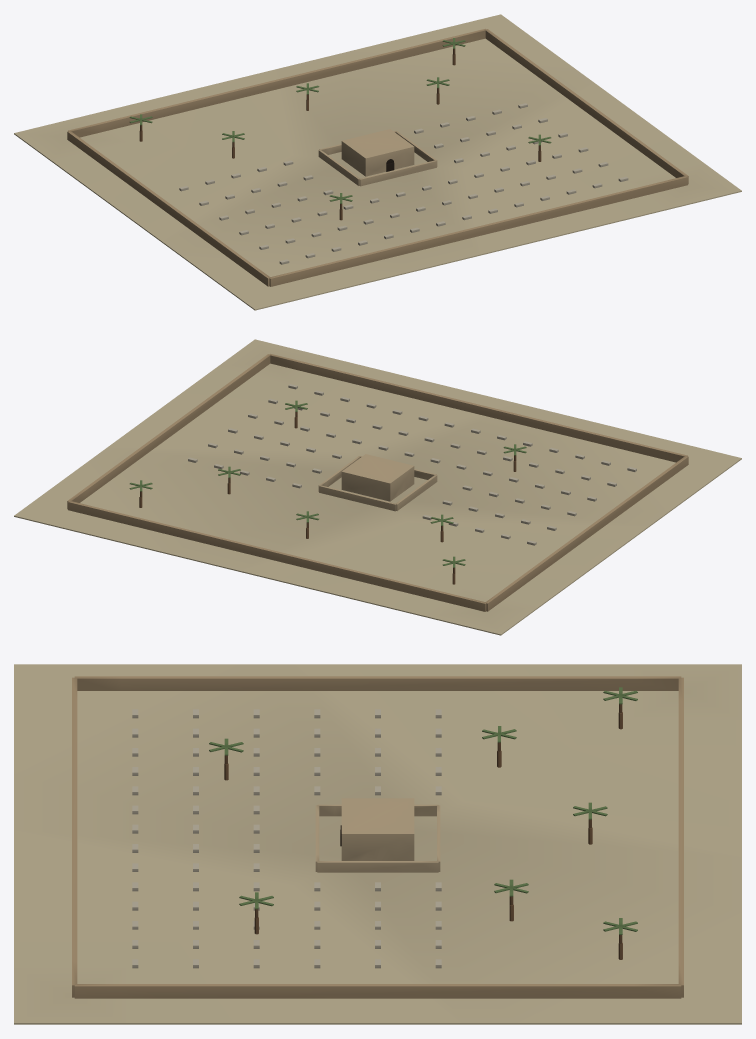
File: kazimayn-800.glb
The picture shows the model from 3 angles, top to bottom: view 1: azimuth 30°, elevation 25°; view 2: azimuth 150°, elevation 25°; view 3: azimuth 270°, elevation 25°; orthographic projection. The views are drawn at different scales.
Visible parts, largest first — view 1: p0_cemetery, p1_grave, p2_palms; view 2: p0_cemetery, p1_grave, p2_palms; view 3: p0_cemetery, p1_grave, p2_palms.
Part boxes in pixels (x1,y1,x2,y2): p0_cemetery: [14, 14, 741, 310]; p1_grave: [318, 129, 437, 186]; p2_palms: [129, 38, 551, 209]; p0_cemetery: [14, 339, 741, 635]; p1_grave: [318, 454, 437, 511]; p2_palms: [129, 400, 526, 573]; p0_cemetery: [14, 664, 741, 1024]; p1_grave: [315, 798, 440, 872]; p2_palms: [209, 687, 637, 943].
Size of the model in its own units: 140 by 6.37 by 120.
